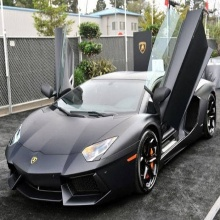no damage: (7, 69, 217, 209)
